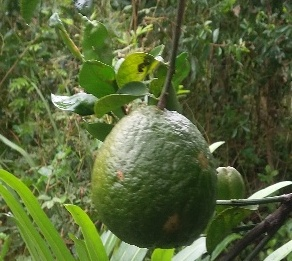Cam: (85, 103, 223, 252)
